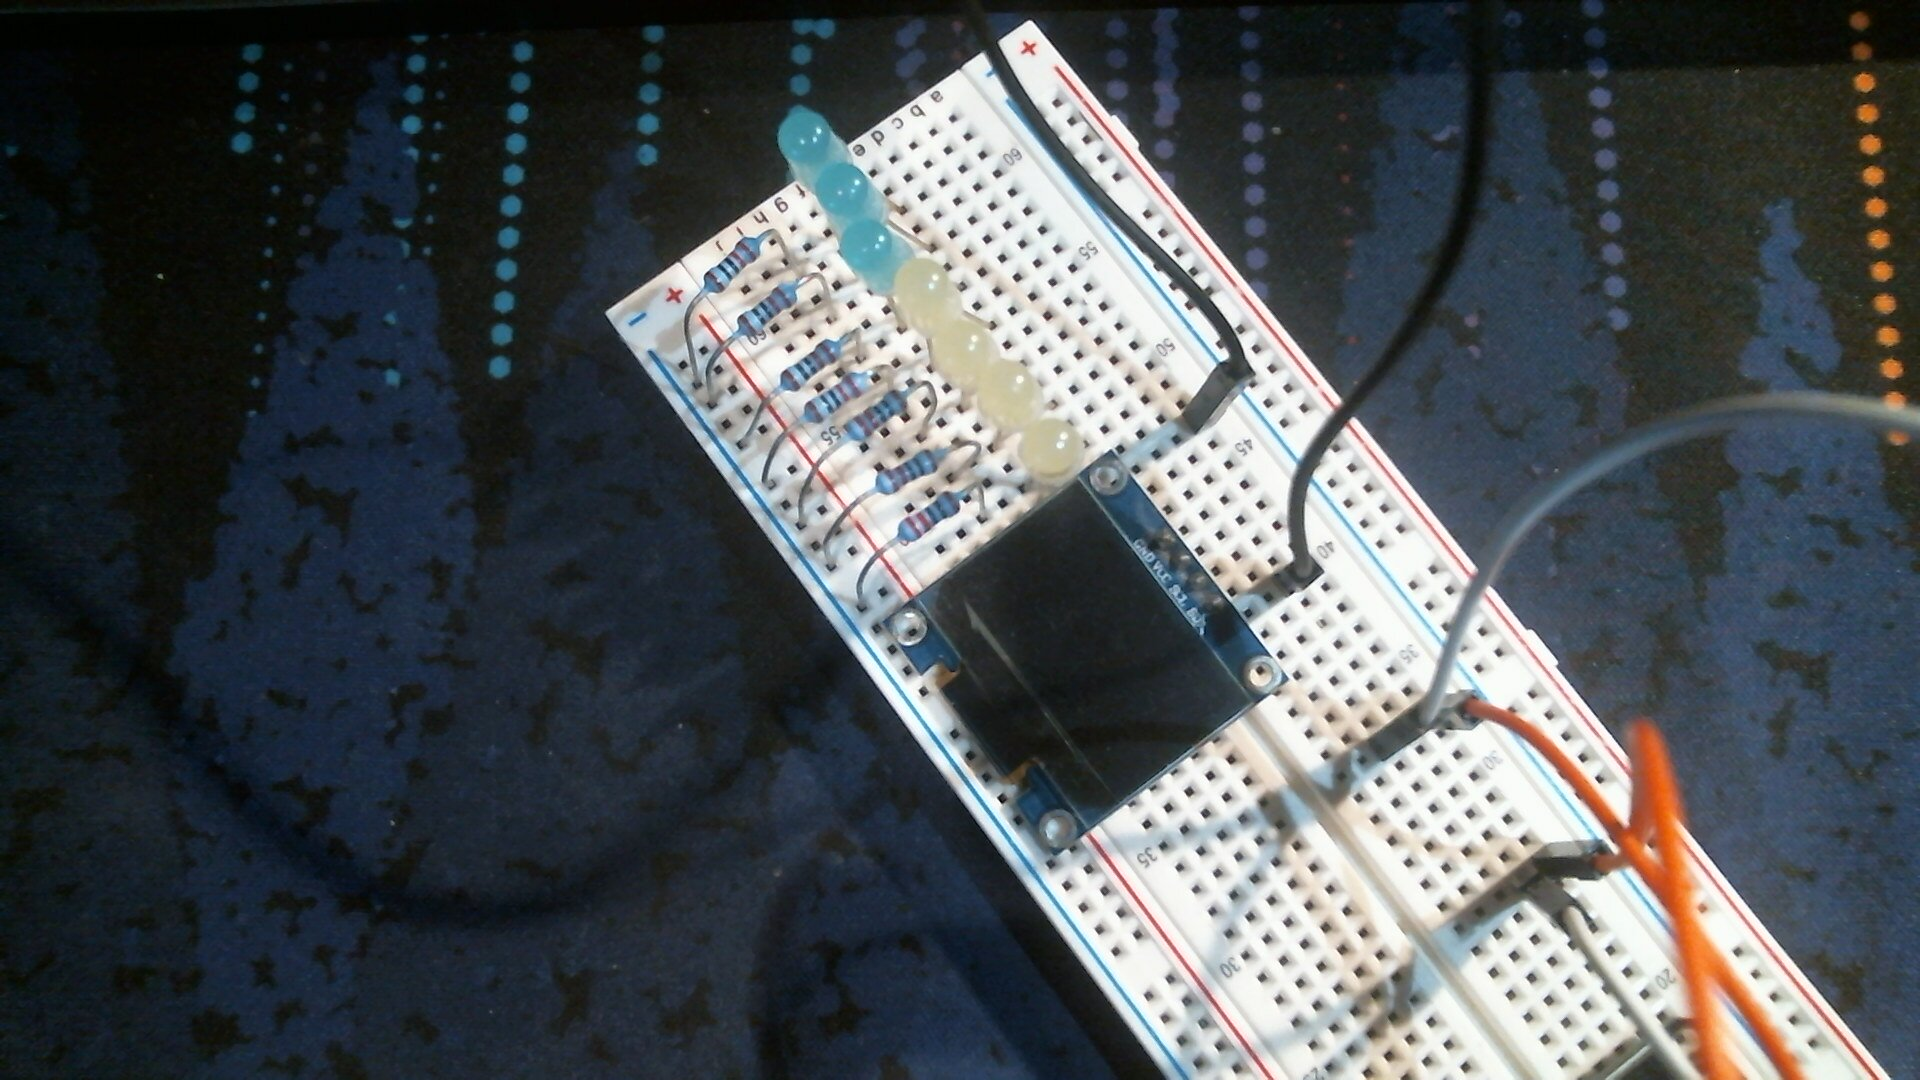resistor: (698, 235, 771, 298), (870, 444, 951, 498), (894, 488, 967, 547), (840, 386, 913, 444), (799, 371, 872, 426), (735, 280, 800, 339), (777, 338, 845, 393)
